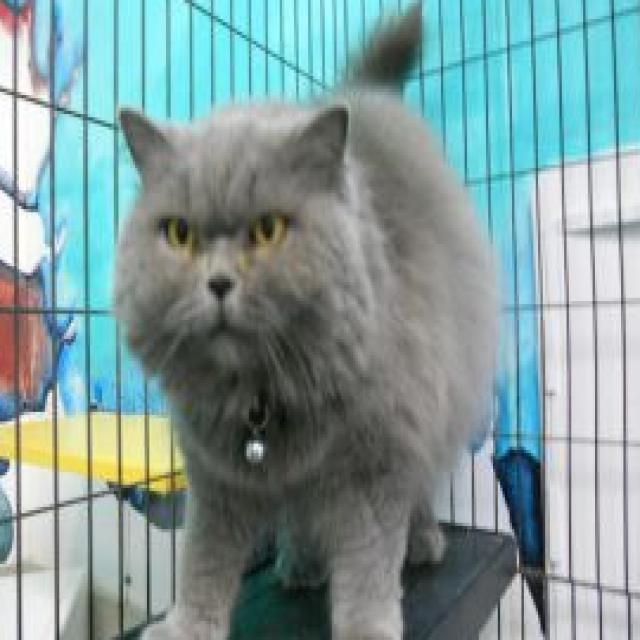British Shorthair: (111, 0, 502, 640)
